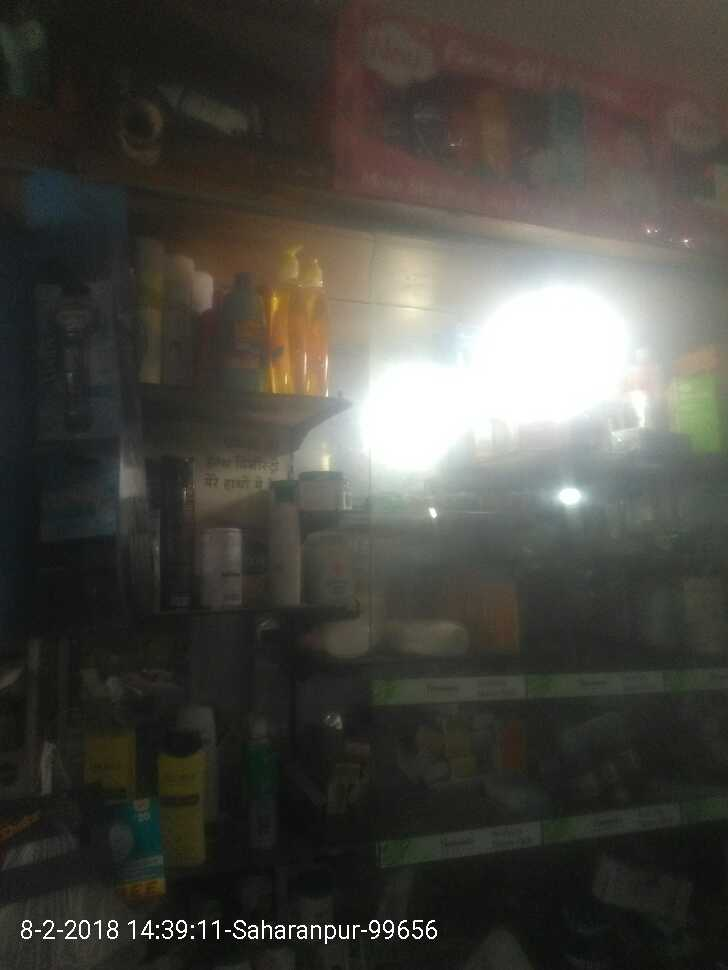reject: (319, 393, 447, 532)
